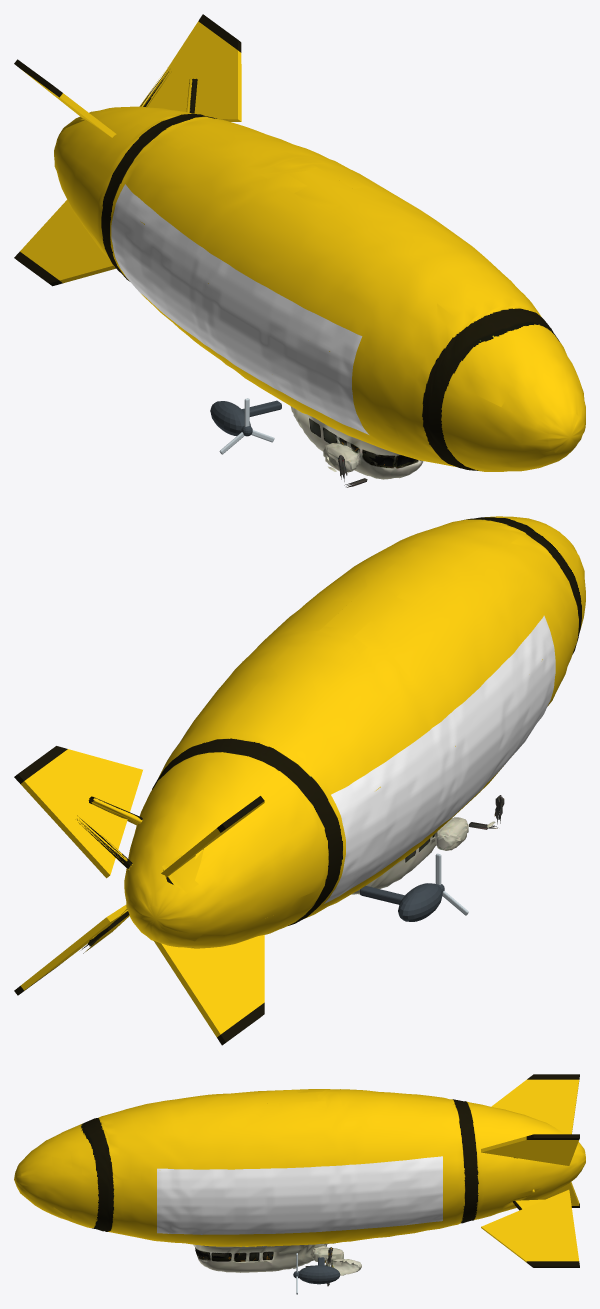
File: dirigivel-2.glb
The picture shows the model from 3 angles, top to bottom: view 1: azimuth 30°, elevation 25°; view 2: azimuth 150°, elevation 25°; view 3: azimuth 270°, elevation 25°; orthographic projection. The views are drawn at different scales.
Visible parts, largest first — view 1: Frota_blimp, HullBanner_L, Engine_L; view 2: Frota_blimp, HullBanner_L, Engine_L; view 3: Frota_blimp, HullBanner_R, Engine_R.
Part boxes in pixels (bbox=[...]): Frota_blimp: bbox=[14, 14, 585, 487]; HullBanner_L: bbox=[111, 184, 368, 434]; Engine_L: bbox=[210, 401, 250, 436]; Frota_blimp: bbox=[14, 516, 585, 1045]; HullBanner_L: bbox=[324, 615, 555, 903]; Engine_L: bbox=[398, 883, 442, 921]; Frota_blimp: bbox=[14, 1074, 585, 1286]; HullBanner_R: bbox=[157, 1156, 442, 1234]; Engine_R: bbox=[299, 1265, 340, 1284].
Bounding box in the file's own units: 6.92 × 8.1 × 24.
4 materials, 1 textured.
